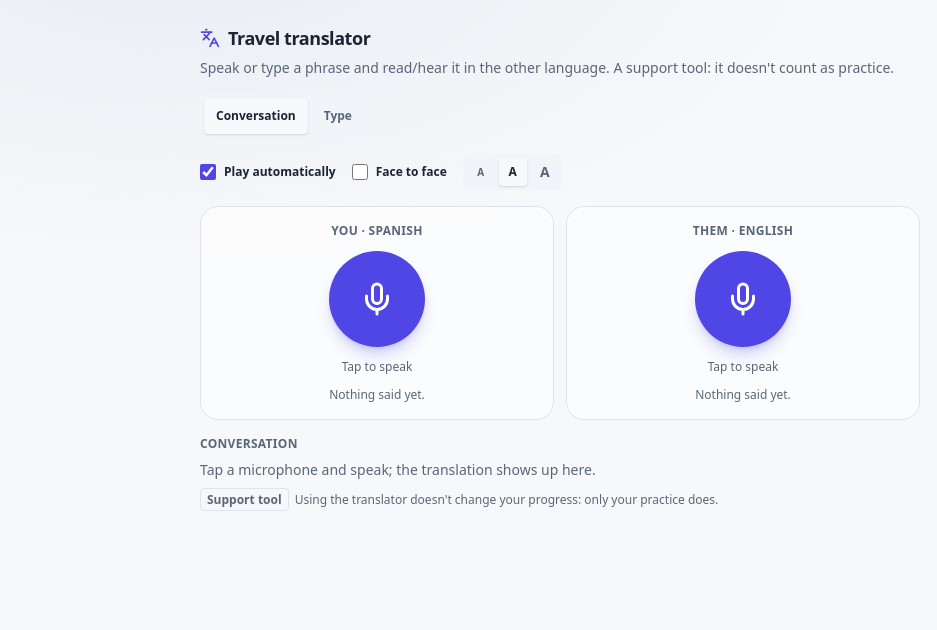
Test: TranslatorScreen · V3.39 traductor de viaje › cambia entre Conversación y Escribir
Click the button "Type".
click(338, 116)  # box [312,98,364,134]
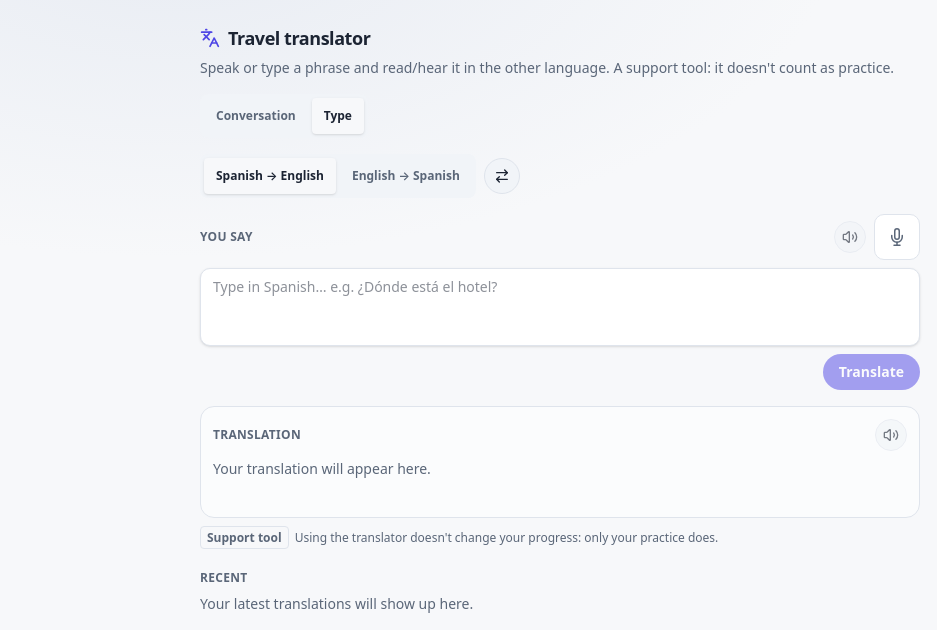
Result: the text box named "Phrase to translate" is shown at [200,268,920,346]
Result: the element with test id "conversation-panel-es" is gone
Click the button "Conversation".
click(256, 116)  # box [204,98,308,134]
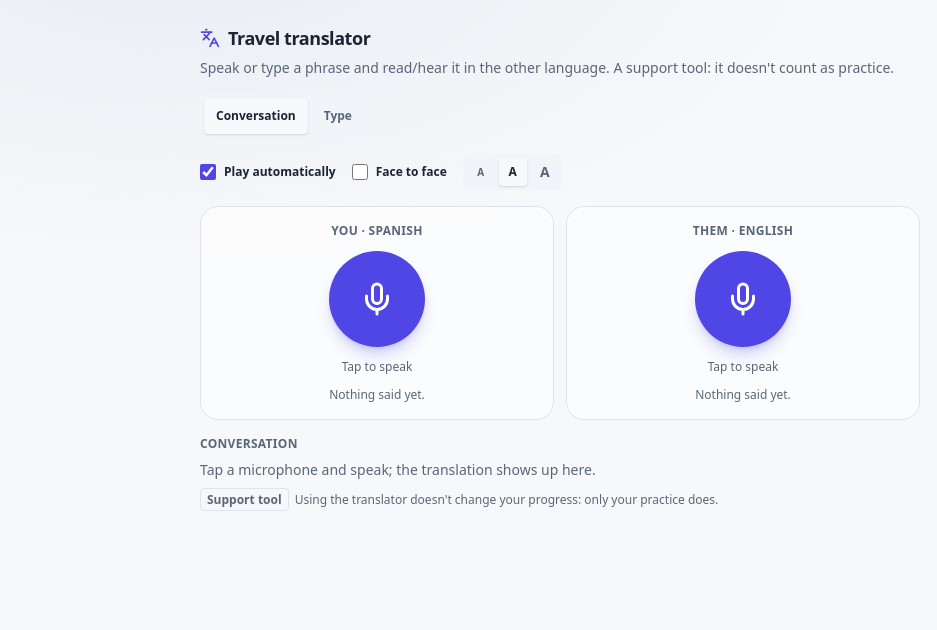
Result: the element with test id "conversation-panel-es" is shown at [200,206,554,420]
